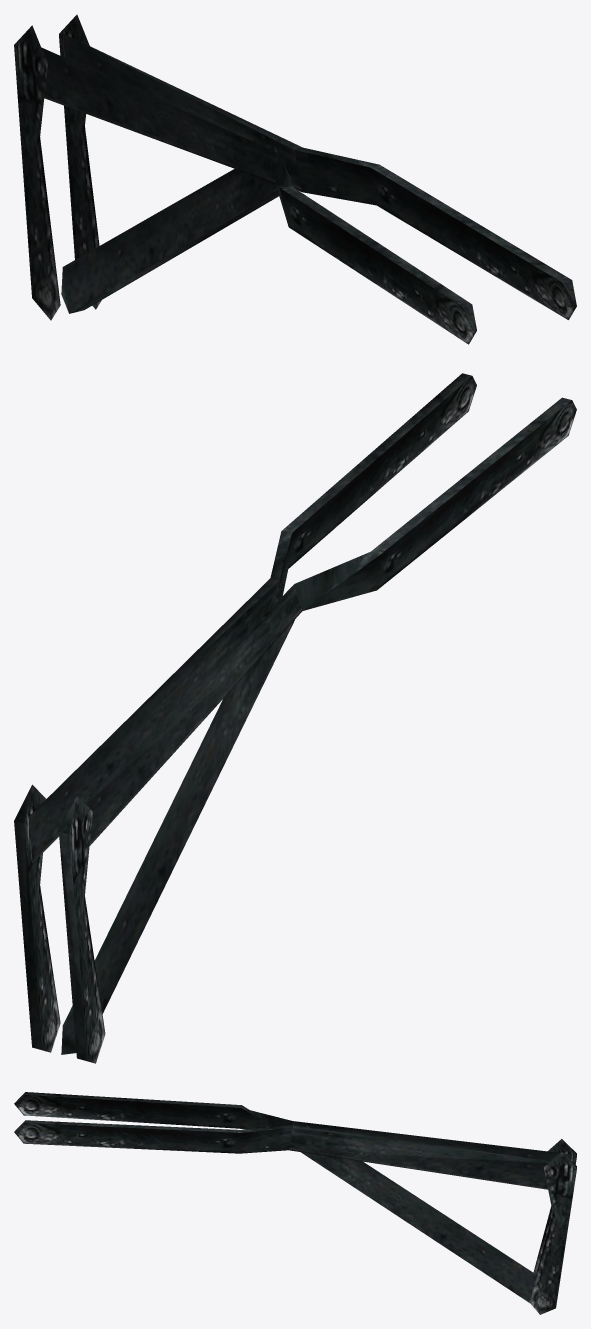
File: wp_carbine_e11_stock_open_l1.fbx
3 views of the same model, one above another, from view 1: azimuth 30°, elevation 25°; view 2: azimuth 150°, elevation 25°; view 3: azimuth 270°, elevation 25° (orthographic). The views are drawn at different scales.
Parts seen in each view (by area): view 1: mesh_node; view 2: mesh_node; view 3: mesh_node.
Boxes of the visible parts, x1=… form: mesh_node: x1=14, y1=14, x2=576, y2=344; mesh_node: x1=14, y1=373, x2=576, y2=1063; mesh_node: x1=14, y1=1092, x2=576, y2=1314.
Size of the model in its own units: 0.0452 by 0.1362 by 0.3457.
1 material, 1 textured.
